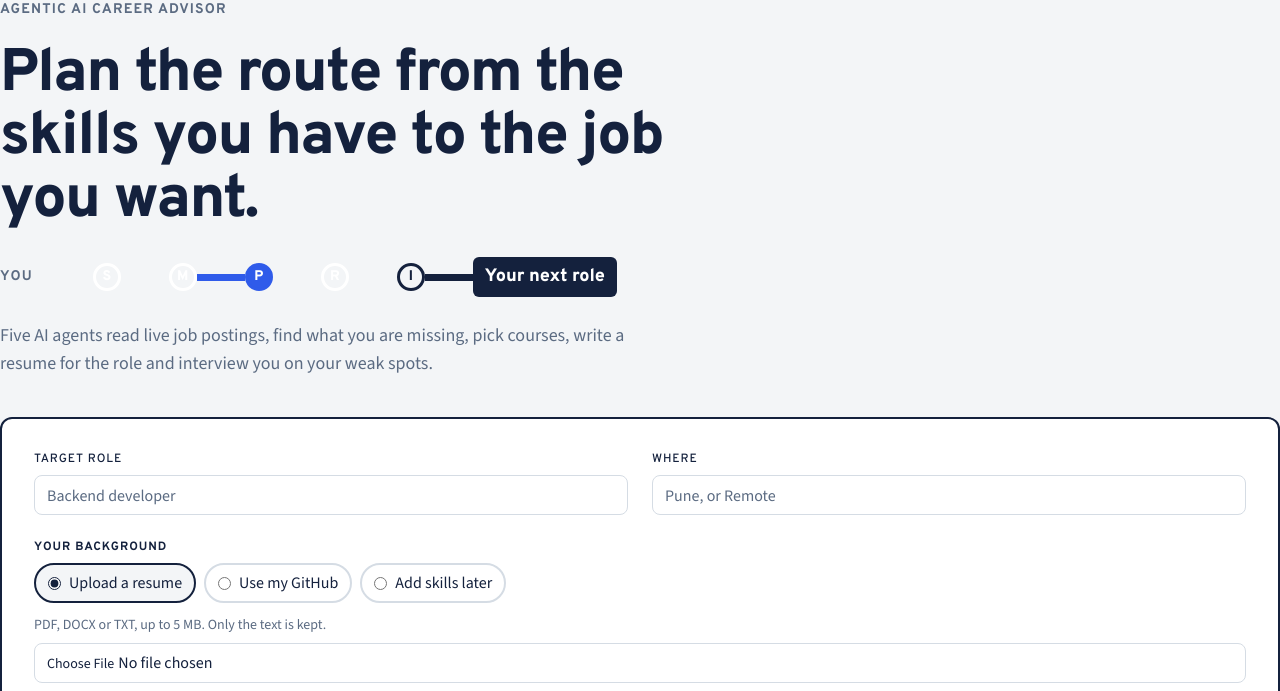
Test case: StartForm › asks for a file instead of creating a session when resume is picked without one
Click the field labelled "Target role". click: (331, 495)
box: [34, 475, 628, 515]
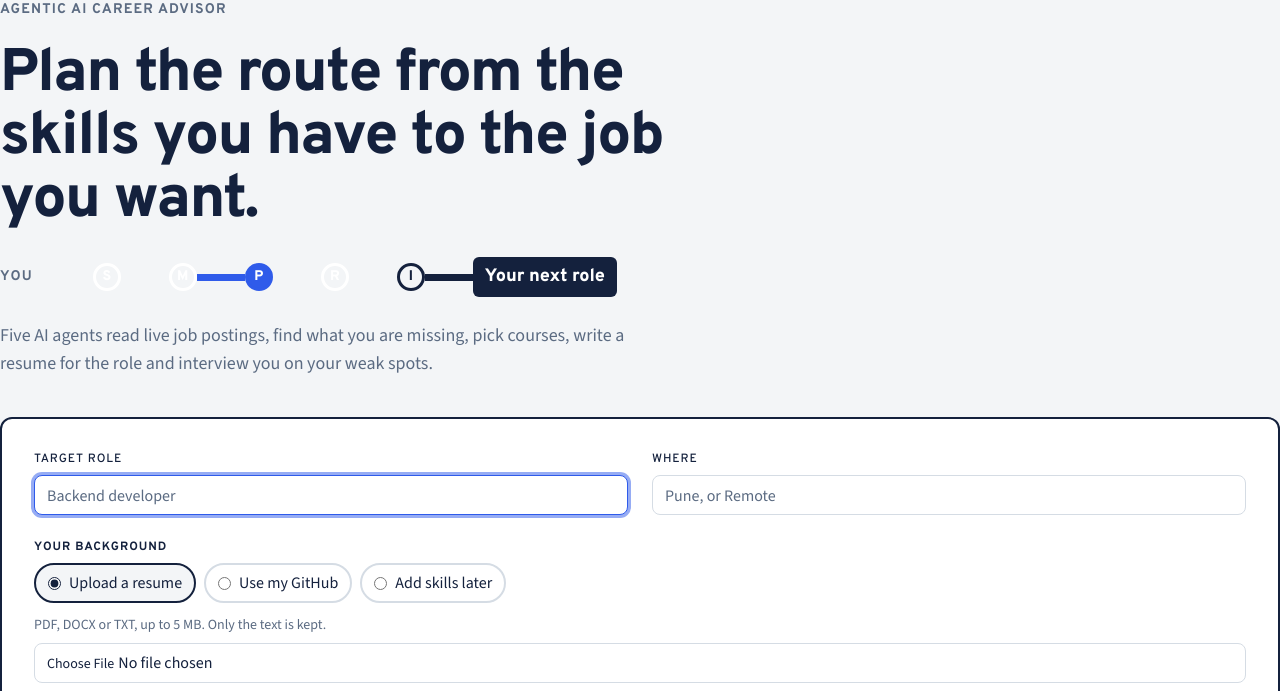
Type keys "Backend developer"
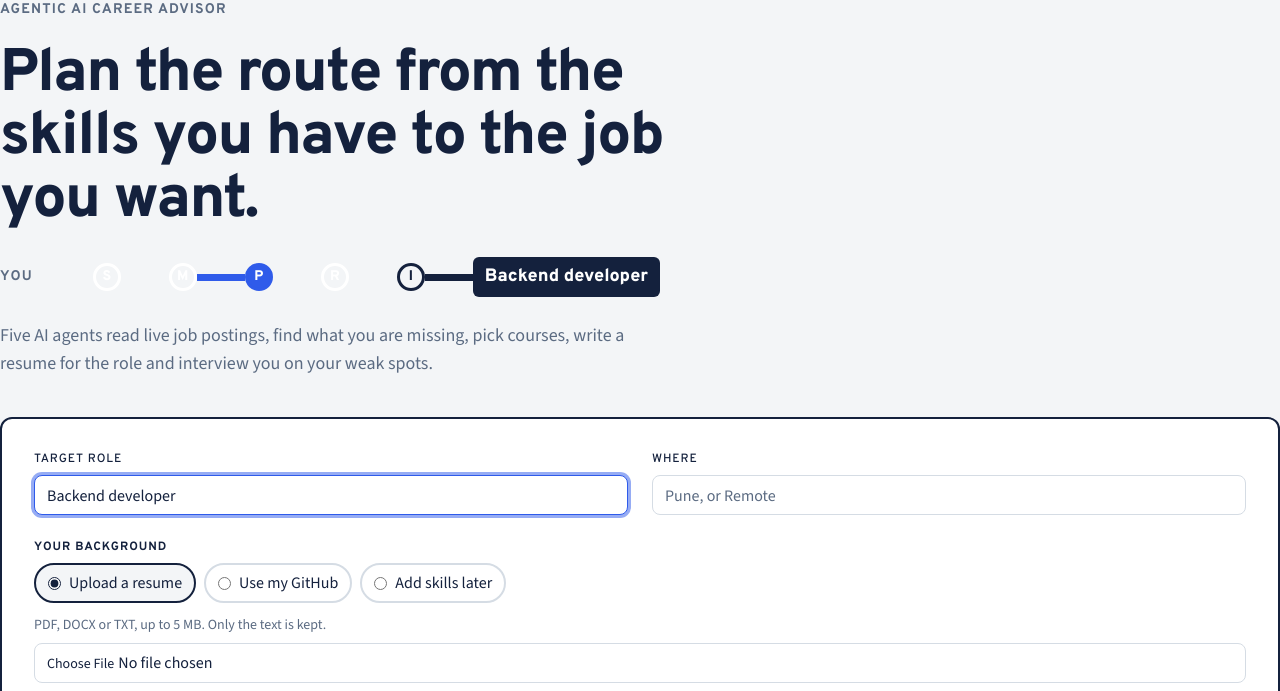
Click the field labelled "Where". click: (949, 495)
box: [652, 475, 1246, 515]
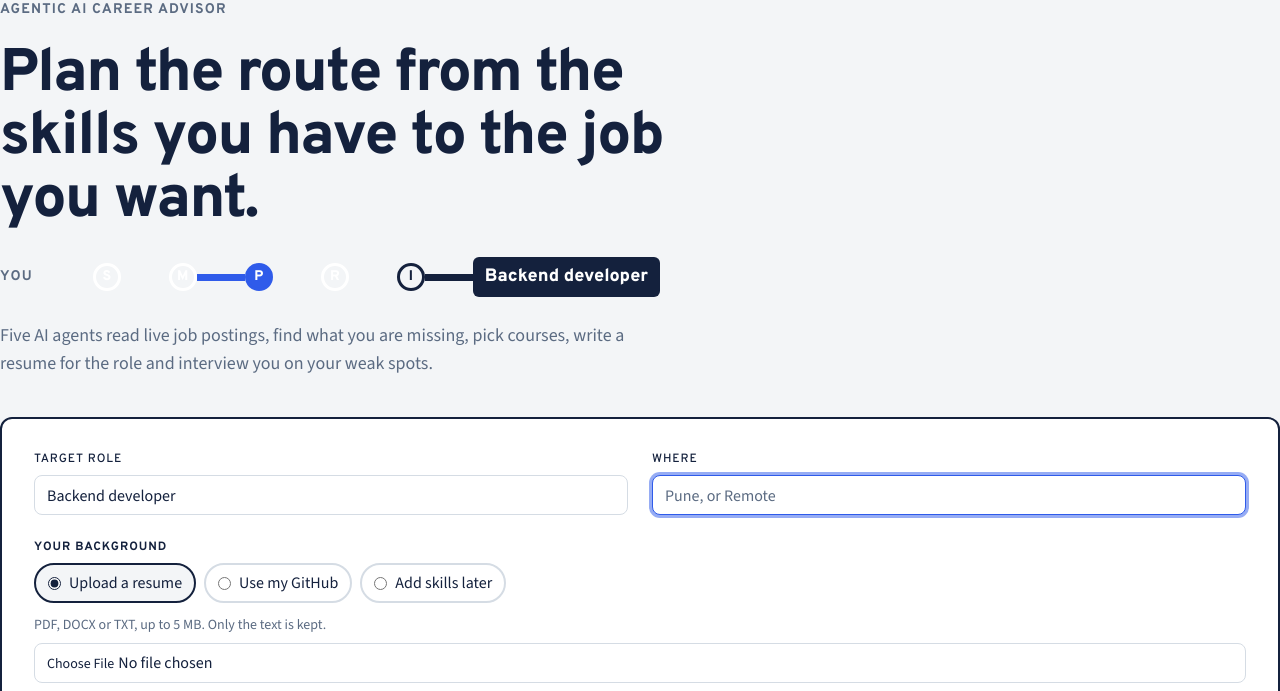
Type keys "Pune"
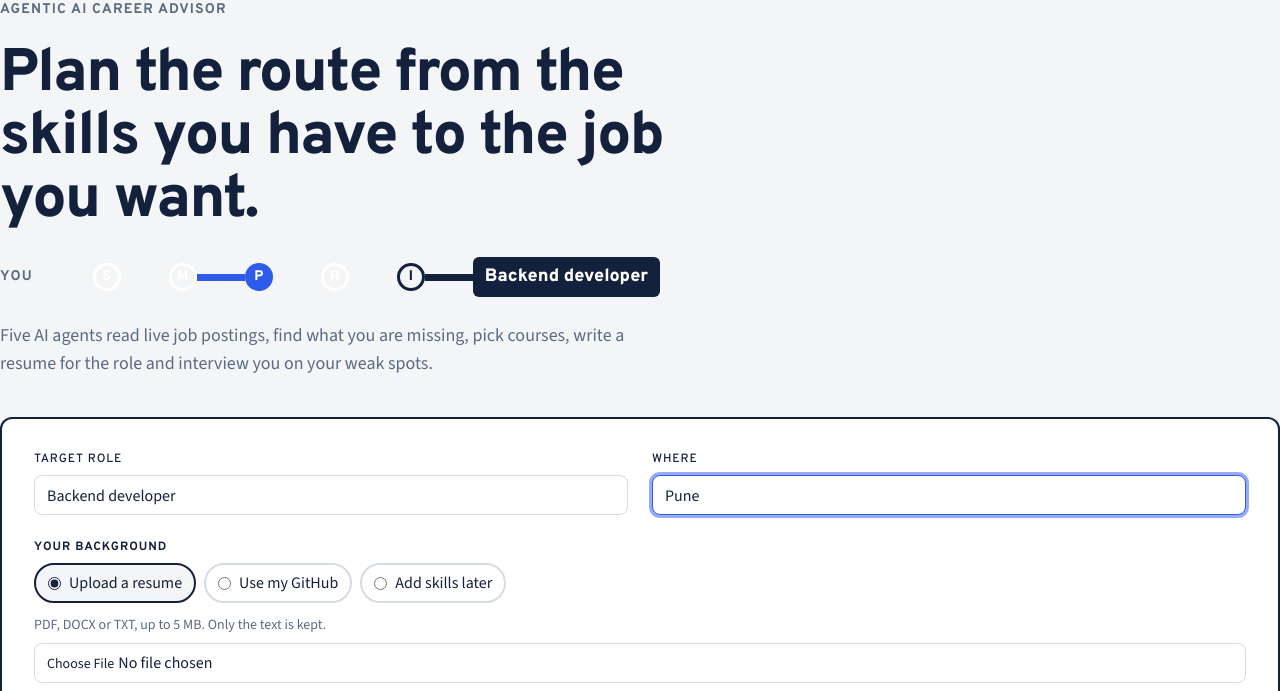
Click the radio button labelled "Upload a resume". click: (54, 583)
box: [48, 576, 61, 590]
(page scrolled)
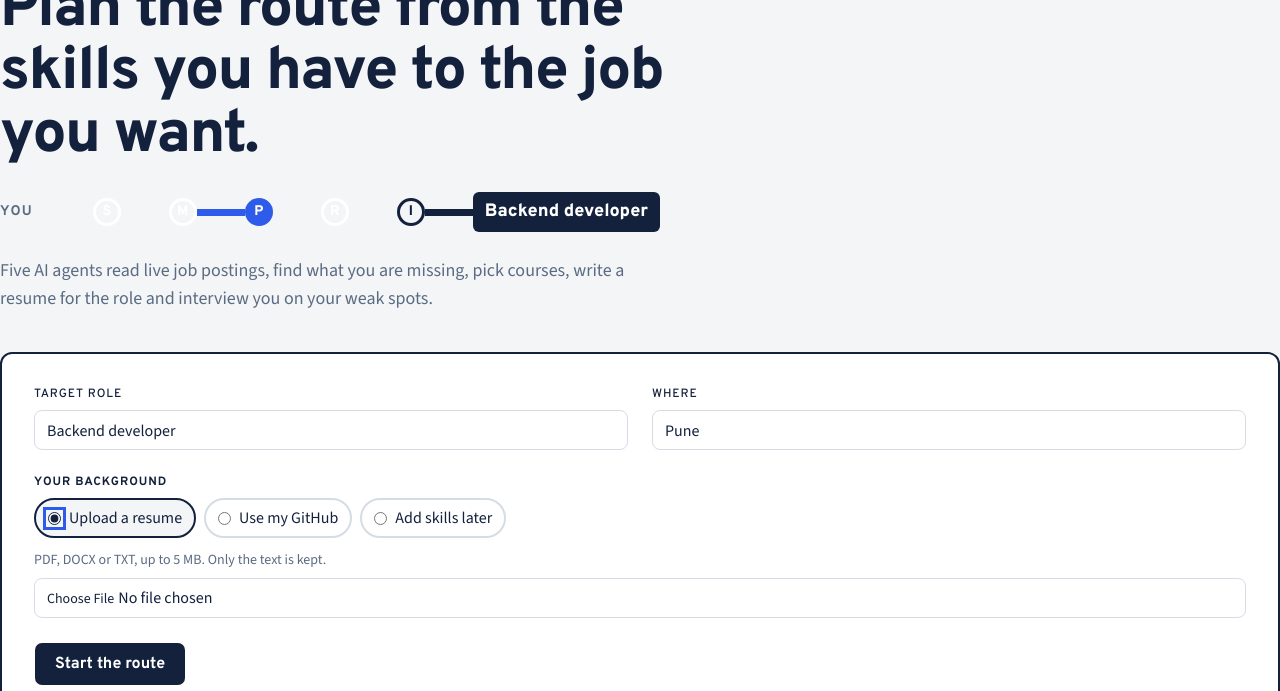
Click the button "Start the route". click: (110, 664)
box: [34, 642, 186, 686]
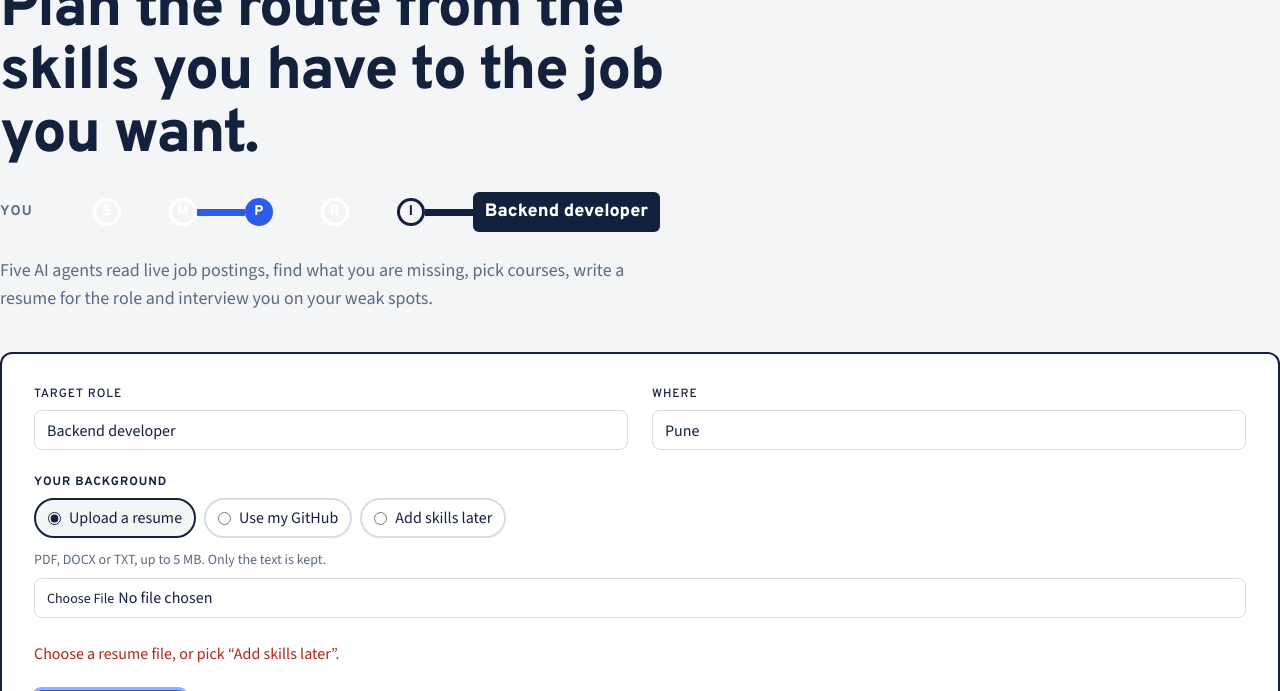
Check: the message reads "Choose a resume file, or pick “Add skills later”.", box [34, 643, 340, 664]
